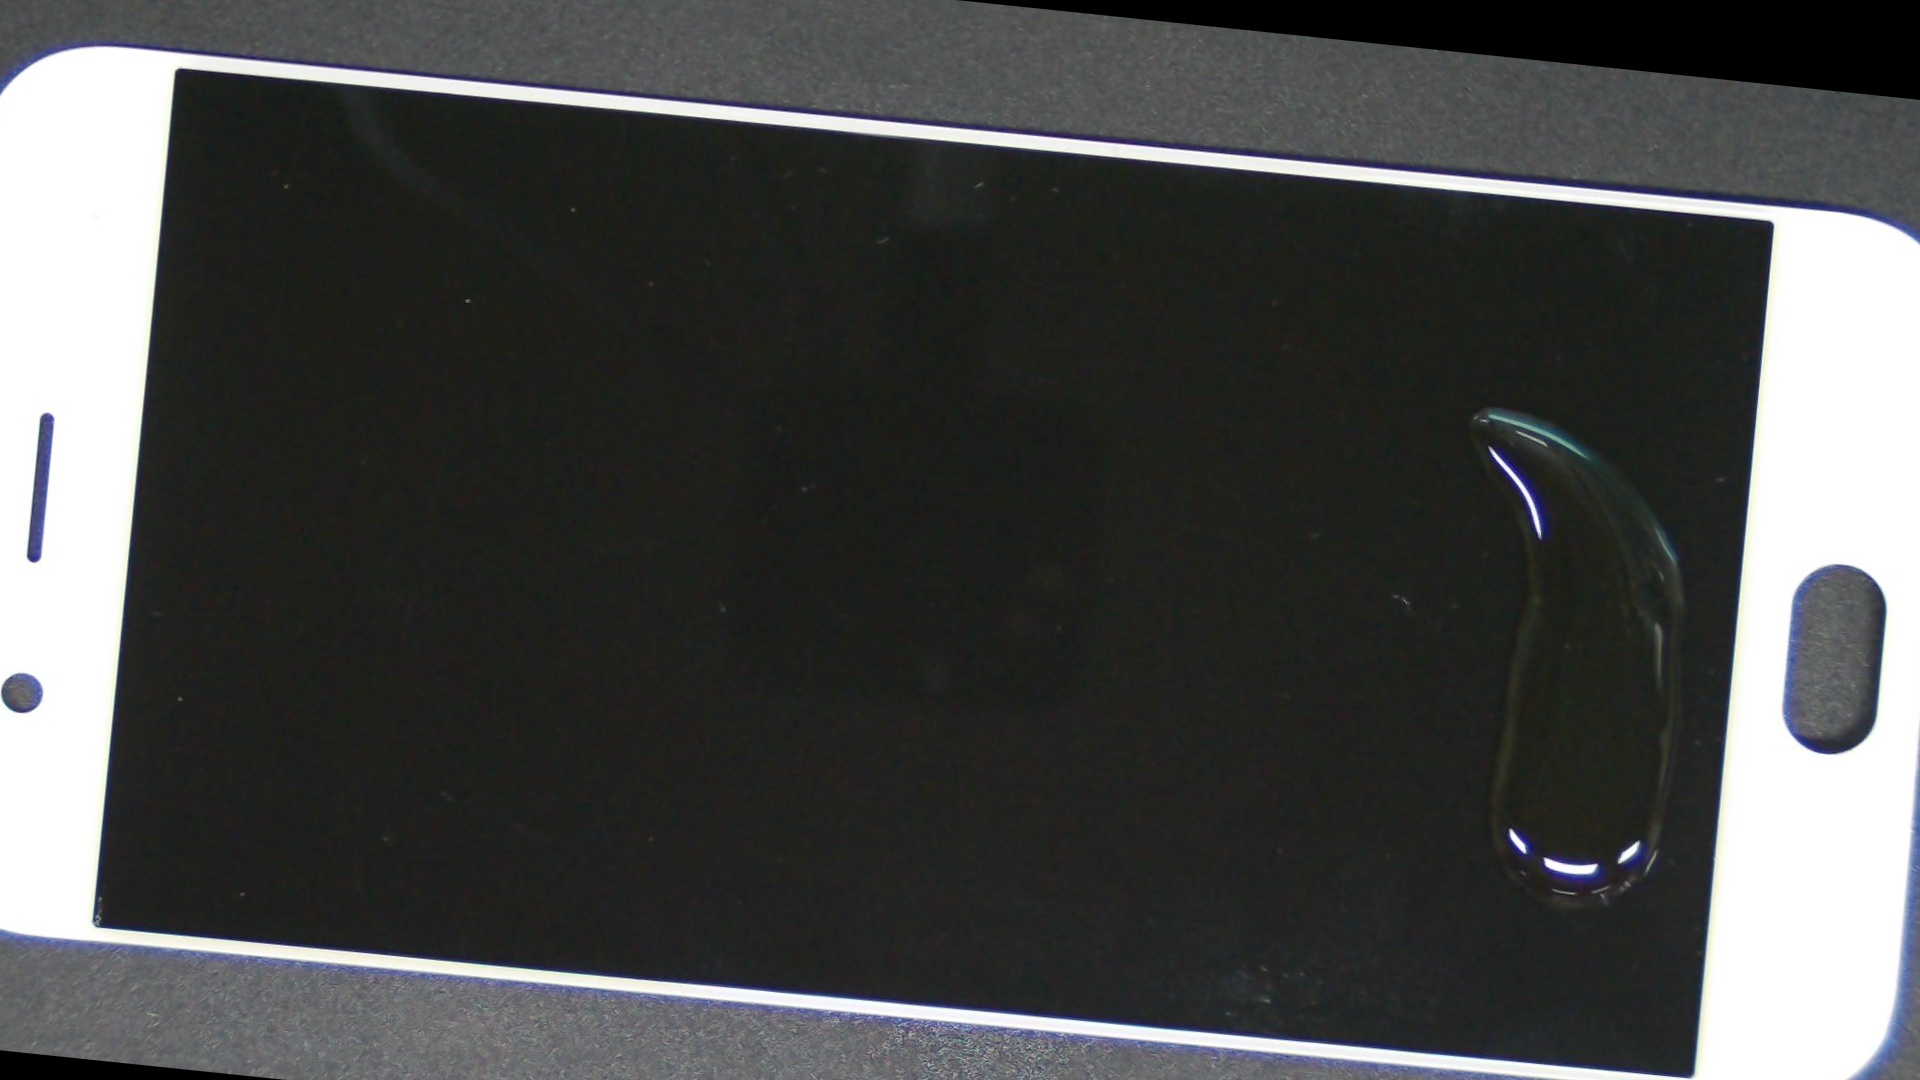oil: (678, 150, 1920, 636)
